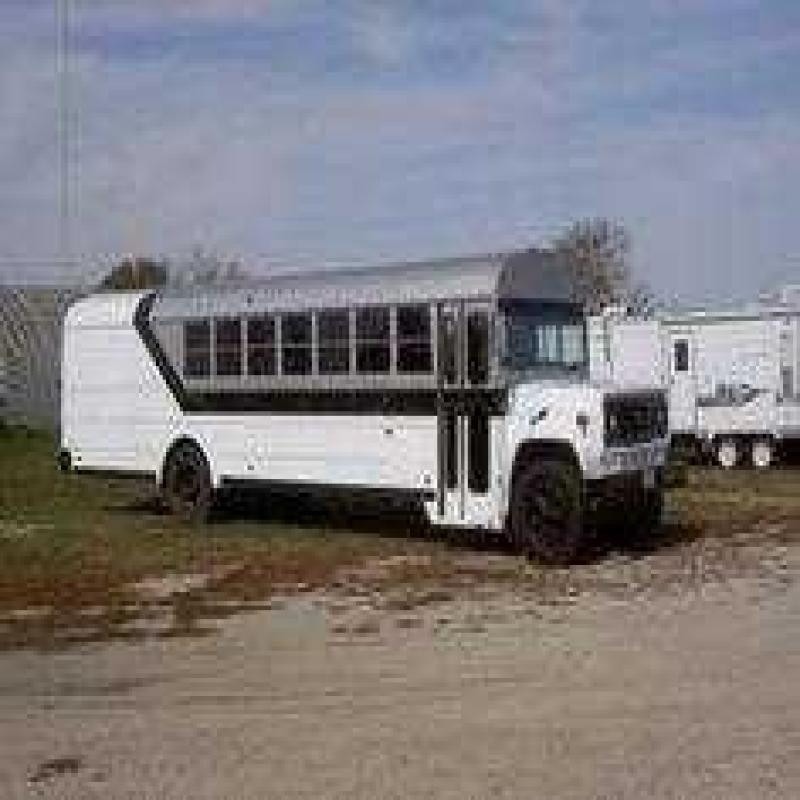bus: (55, 226, 666, 594)
